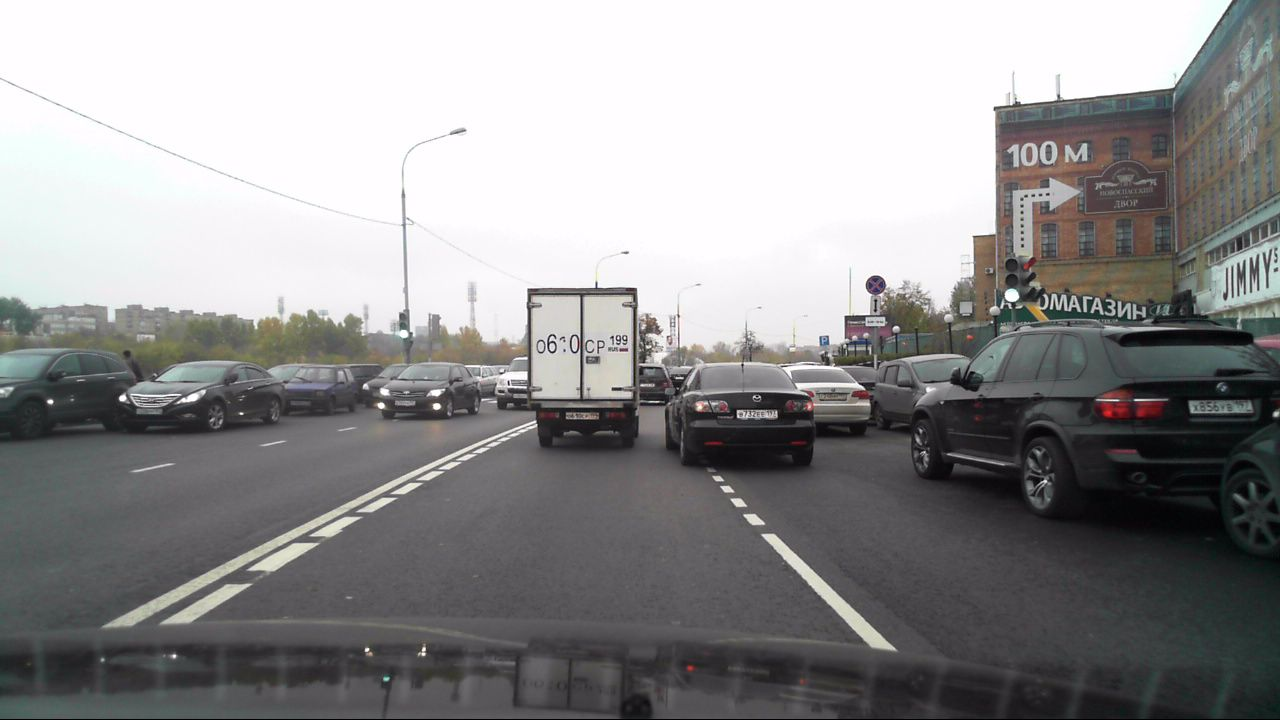No Parking: (865, 273, 886, 295)
